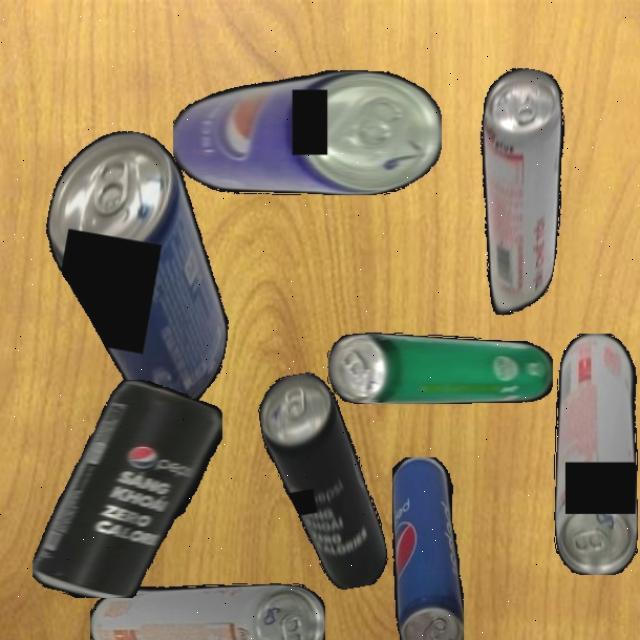debris: (19, 120, 259, 418), (32, 379, 222, 598), (449, 63, 587, 322), (172, 70, 442, 195), (254, 365, 391, 598), (553, 333, 638, 575), (327, 331, 553, 404), (89, 583, 325, 640), (391, 456, 464, 640)
